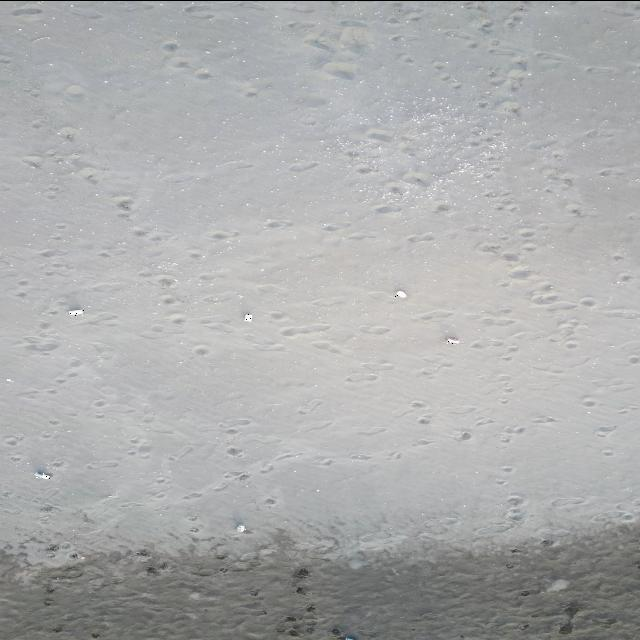Garbage: (33, 471, 48, 479), (395, 289, 406, 298), (70, 308, 83, 315)
